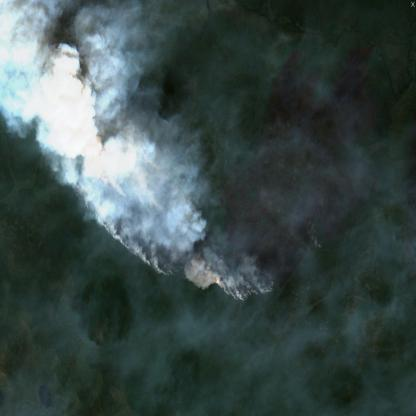fire: (75, 143, 276, 301)
